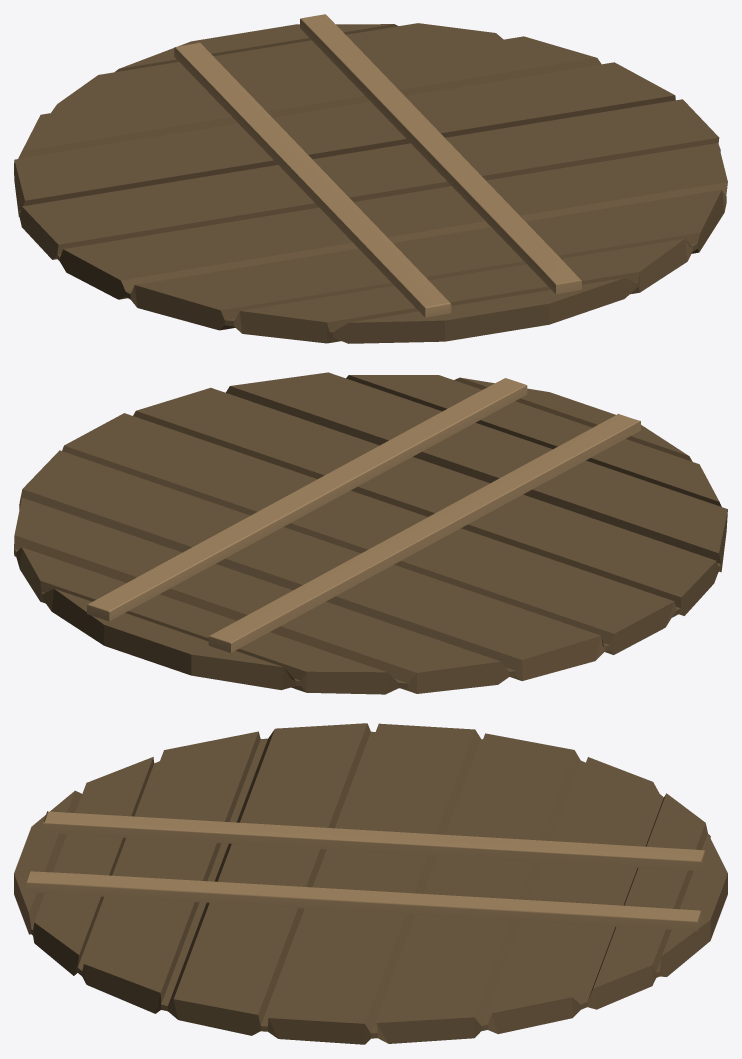
File: Lid.fbx
3 renders of one model, top to bottom at view 1: azimuth 30°, elevation 25°; view 2: azimuth 150°, elevation 25°; view 3: azimuth 270°, elevation 25°, orthographic.
Visible parts, largest first — view 1: pCylinder1, pCube13, pCube12; view 2: pCylinder1, pCube13, pCube12; view 3: pCylinder1, pCube13, pCube12.
Part boxes in pixels (<box>): pCylinder1: <box>14,23,727,343</box>; pCube13: <box>300,14,581,294</box>; pCube12: <box>174,42,451,317</box>; pCylinder1: <box>14,372,727,694</box>; pCube13: <box>87,378,527,621</box>; pCube12: <box>208,413,640,652</box>; pCylinder1: <box>14,723,727,1044</box>; pCube13: <box>26,871,701,931</box>; pCube12: <box>43,811,705,871</box>.
Size of the model in its own units: 7.71 by 0.3704 by 7.71.
